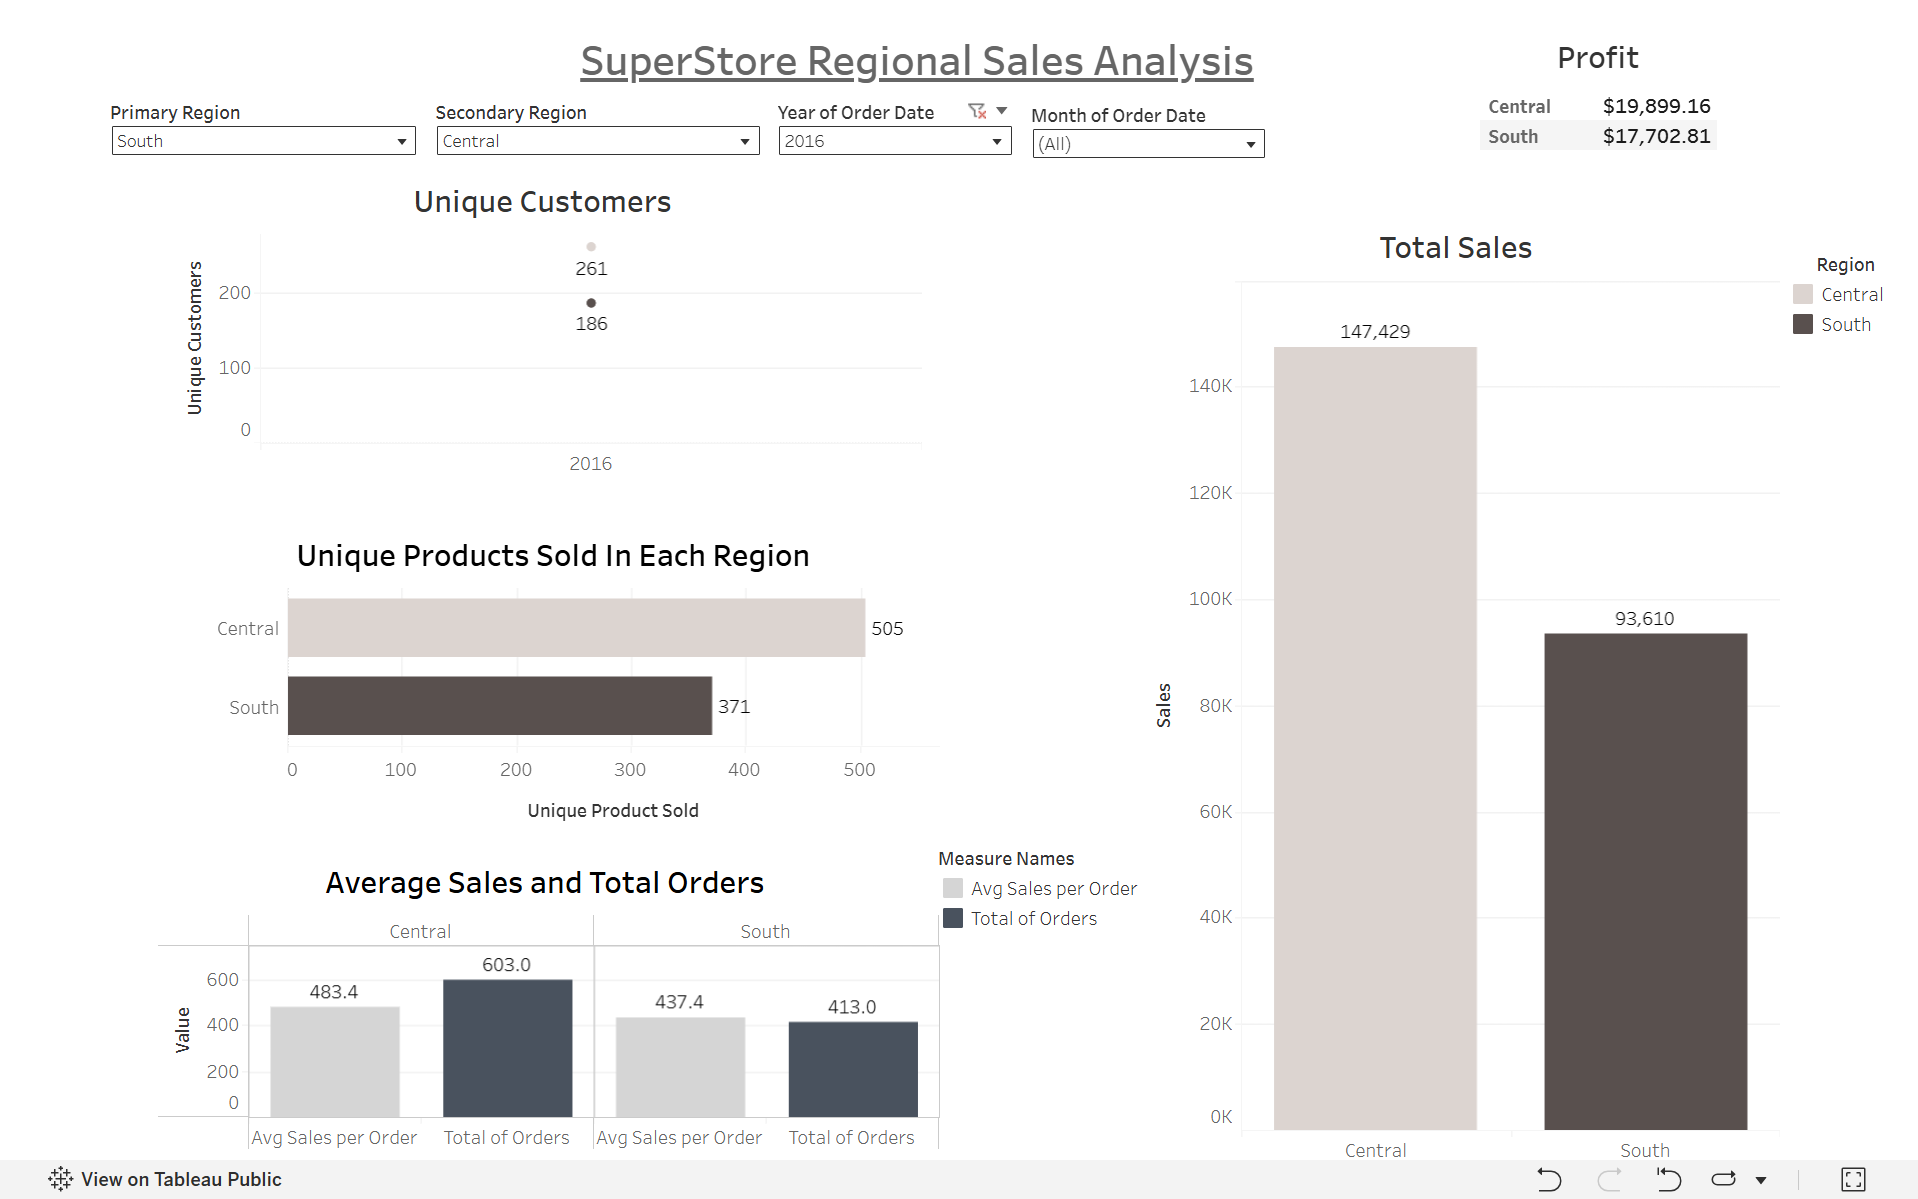

The page's visual inventory and layout, read from the dashboard file:
{"tool":"tableau","page":{"name":"Dashboard 1","canvas":[1000,1000],"units":"permille","ordinal":0},"visuals":[{"type":"text","box":[242.8,6.3,470.7,87.8]},{"type":"worksheet","title":"Sheet 5","mark":"Automatic","rows":["Region"],"box":[770.9,21.9,171.7,167.7]},{"type":"parameter","param":"[Parameters].[Parameter 1]","box":[57.5,84.6,160.2,65.8]},{"type":"parameter","param":"[Parameters].[Parameter 2]","box":[227.6,84.6,169.3,73.7]},{"type":"filter","title":"Sheet 1","param":"[federated.16u9y2v0gbl93h18o0pgm0v2n4fz].[yr:Order Date:ok]","box":[405.4,84.6,122.6,75.2]},{"type":"filter","title":"Sheet 1","param":"[federated.16u9y2v0gbl93h18o0pgm0v2n4fz].[mn:Order Date:ok]","box":[537.2,86.2,122.6,75.2]},{"type":"worksheet","title":"Sheet 3","mark":"Automatic","rows":["Calculation_0014019557298286"],"cols":["Order Date"],"box":[88.9,145.8,391.6,264.9]},{"type":"worksheet","title":"Sheet 1","mark":"Automatic","rows":["Sales"],"cols":["Calculation_0014019552890979"],"box":[593.9,186.5,333.3,816.6]},{"type":"legend","title":"Sheet 1","param":"[federated.16u9y2v0gbl93h18o0pgm0v2n4fz].[none:Calculation_0014019552890979:nk]","box":[931.8,216.3,62.1,92.5]},{"type":"worksheet","title":"Sheet 4","mark":"Automatic","rows":["Calculation_0014019552890979"],"cols":["Calculation_0014019558559855"],"box":[87.4,451.4,402.3,264.9]},{"type":"legend","title":"Sheet 2","param":"[federated.16u9y2v0gbl93h18o0pgm0v2n4fz].[:Measure Names]","box":[488.9,728.8,118,127]},{"type":"worksheet","title":"Sheet 2","mark":"Automatic","cols":["Calculation_0014019552890979"],"box":[82.8,733.5,406.9,258.6]}]}

Visuals, with their boxes on the dashboard's canvas, which has no fixed pixel size, in thousandths of its width and height (x1, y1, x2, y2). These are canvas units, not pixel positions in the 1918x1199 screenshot, which may show the page scaled, cropped or inside an application window:
text: 243,6,714,94
"Sheet 5" worksheet: 771,22,943,190
parameter: 58,85,218,150
parameter: 228,85,397,158
"Sheet 1" filter: 405,85,528,160
"Sheet 1" filter: 537,86,660,161
"Sheet 3" worksheet: 89,146,480,411
"Sheet 1" worksheet: 594,186,927,1003
"Sheet 1" legend: 932,216,994,309
"Sheet 4" worksheet: 87,451,490,716
"Sheet 2" legend: 489,729,607,856
"Sheet 2" worksheet: 83,734,490,992
